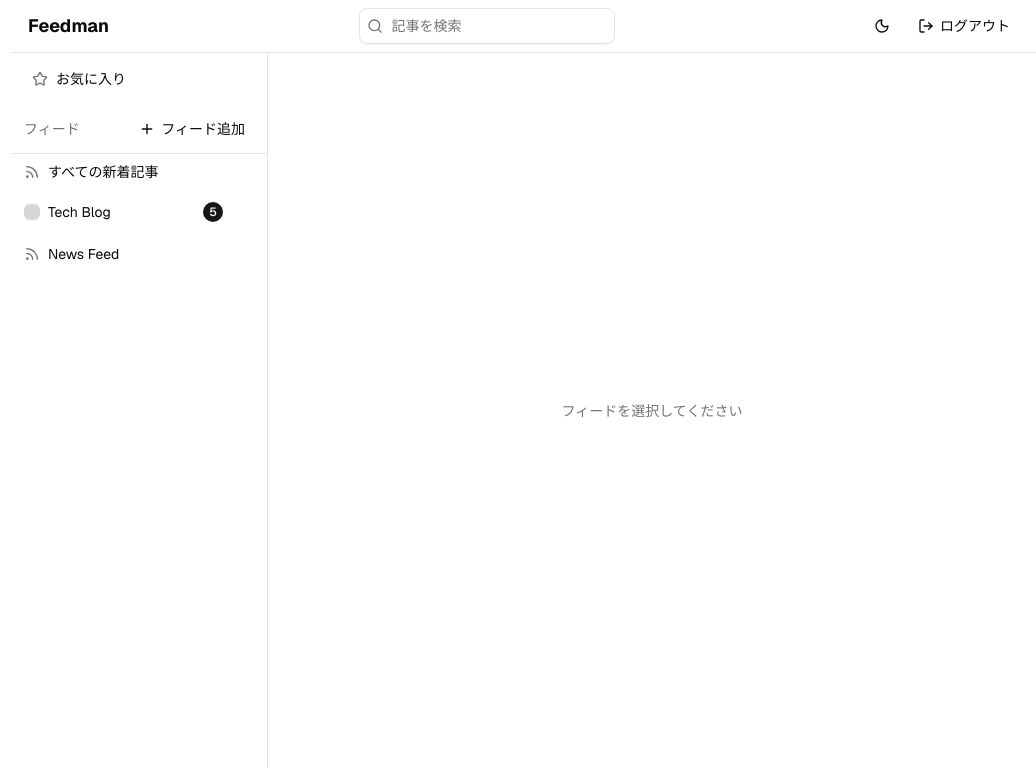
Test: AppShell コンポーネント › CLEAR_SEARCH（クリアボタン押下）で右ペインが ItemList に戻ること（Req 1.6 / NFR 2.2）
Note: 検索を実行 → SearchResults に切り替わる
Type "kubernetes" into the search field with test id "header-search-input".
click(486, 26); type("kubernetes")  # box [358,8,614,44]
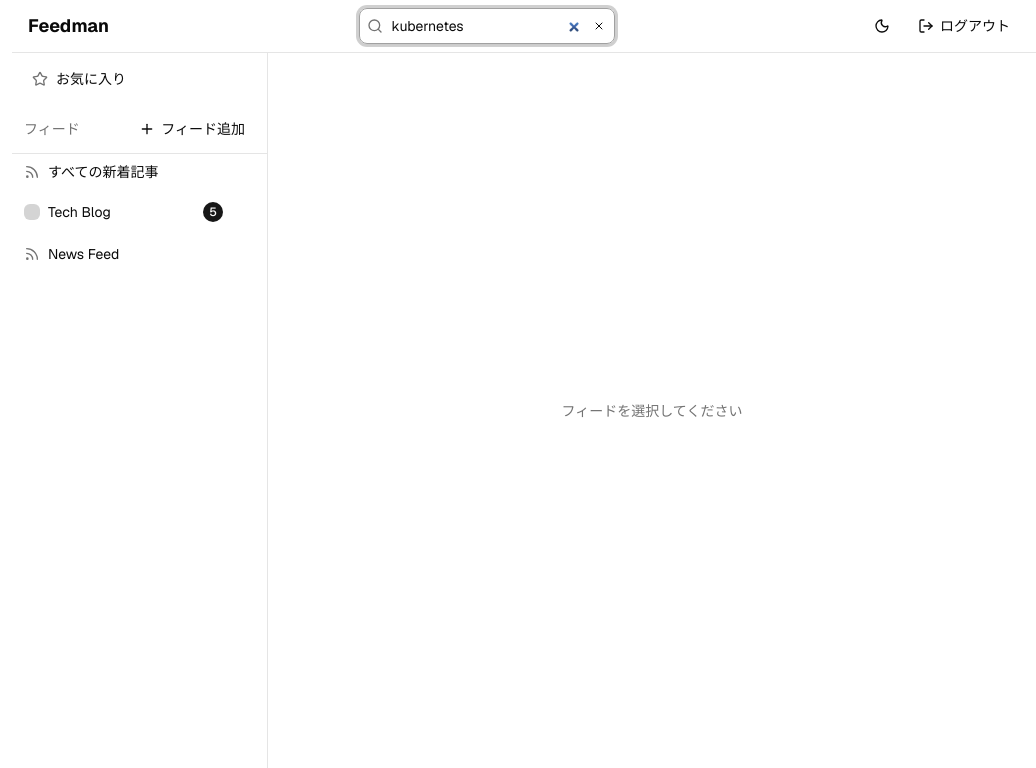
Press Enter
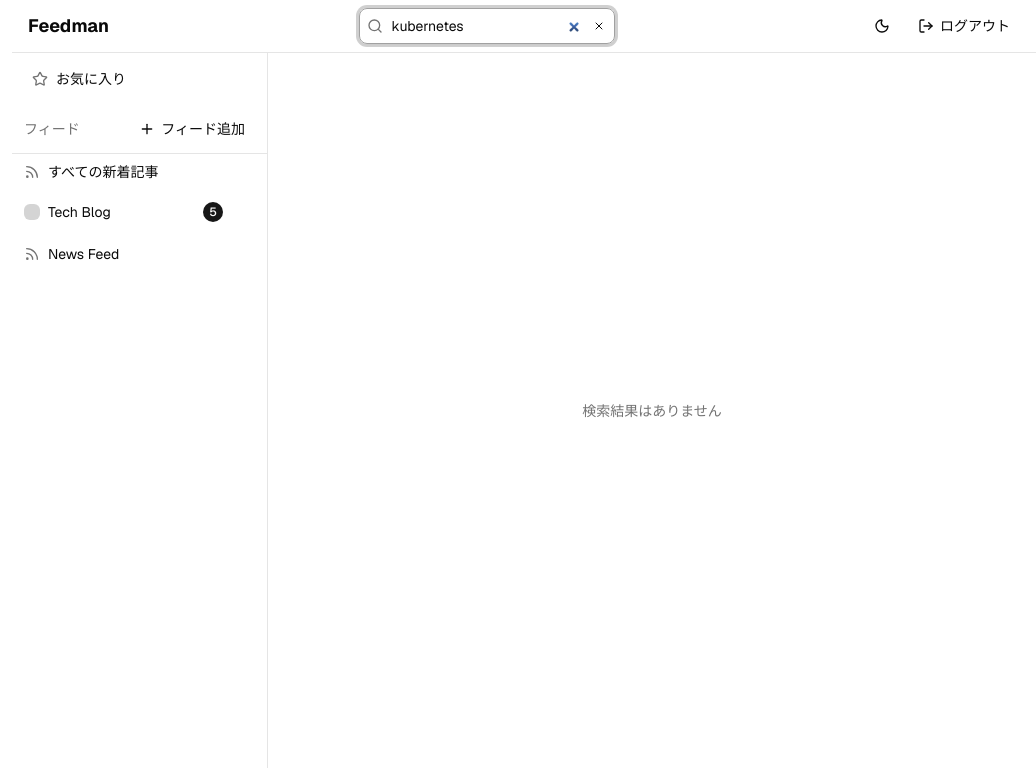
Now the text "検索結果はありません" is shown, box [582,402,722,420]
Note: クリアボタンを押下 → ItemList に戻る
Click the button with test id "header-search-clear".
click(598, 26)  # box [586,14,610,38]
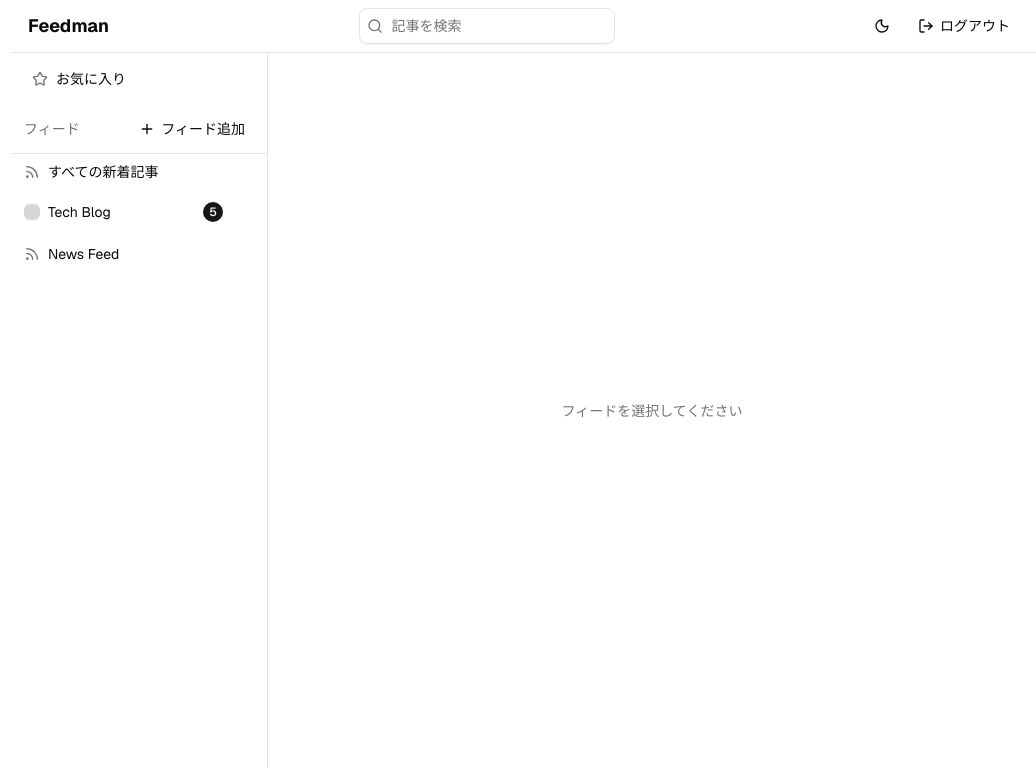
Now the text "フィードを選択してください" is shown, box [562,402,742,420]
Now the text with test id "search-results-empty" is gone
